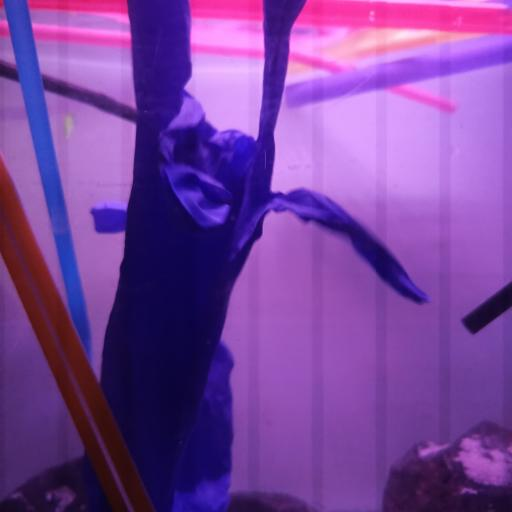glove: (78, 0, 429, 512)
plastic_straw: (0, 154, 152, 512), (3, 20, 457, 114), (2, 0, 95, 367), (284, 33, 512, 111), (25, 0, 512, 36), (0, 56, 138, 125), (461, 280, 512, 334)
